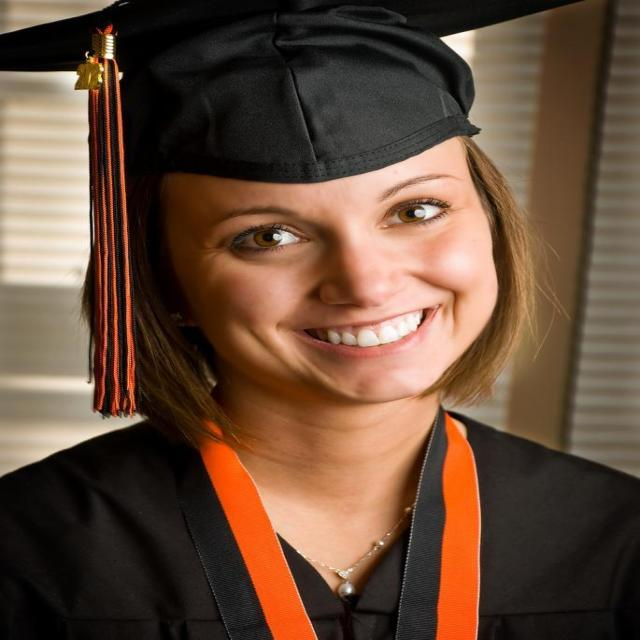no-glass: (218, 194, 456, 254)
